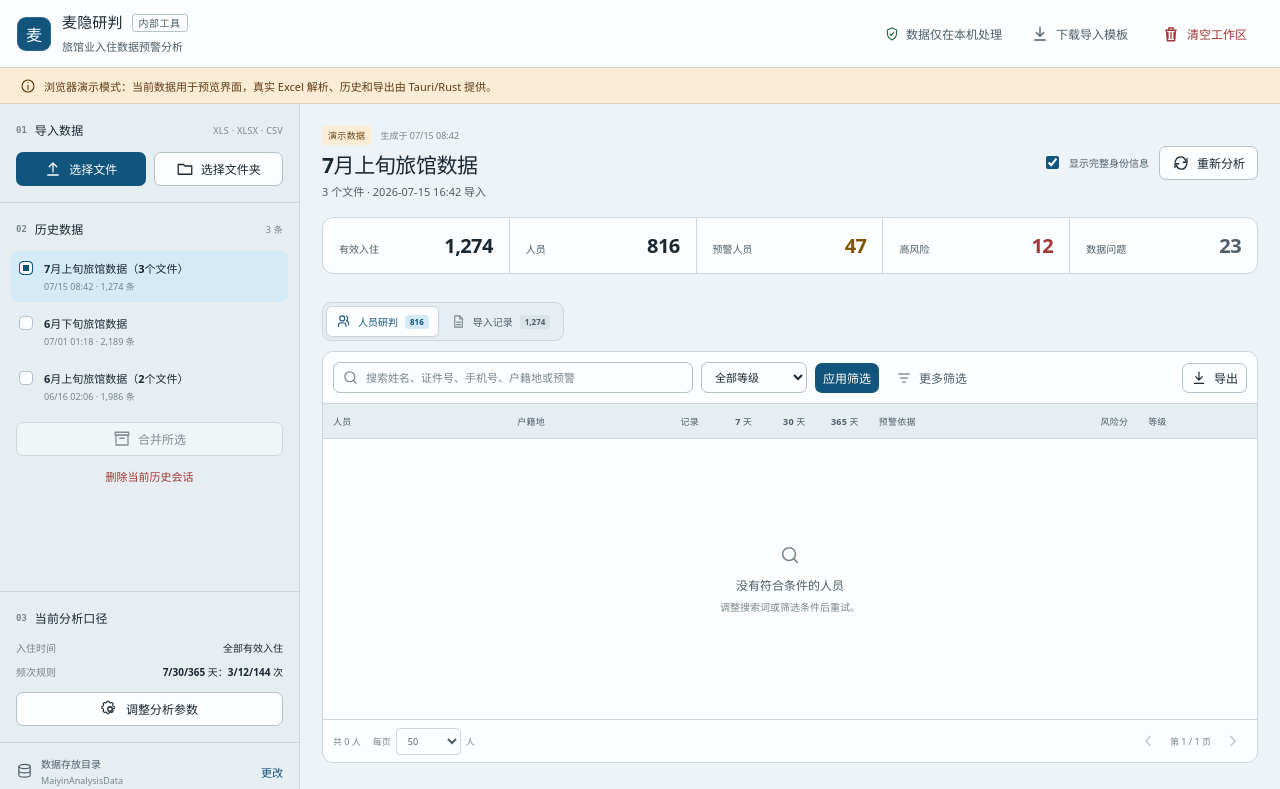
Test: App › loads imported records by page and exposes accessible view tabs
expect the heading "7月上旬旅馆数据" is shown: met, box x1=322 y1=152 x2=486 y2=178
Click the tab "导入记录 1,274" at (500, 322), box x1=441 y1=306 x2=560 y2=337
(page scrolled)
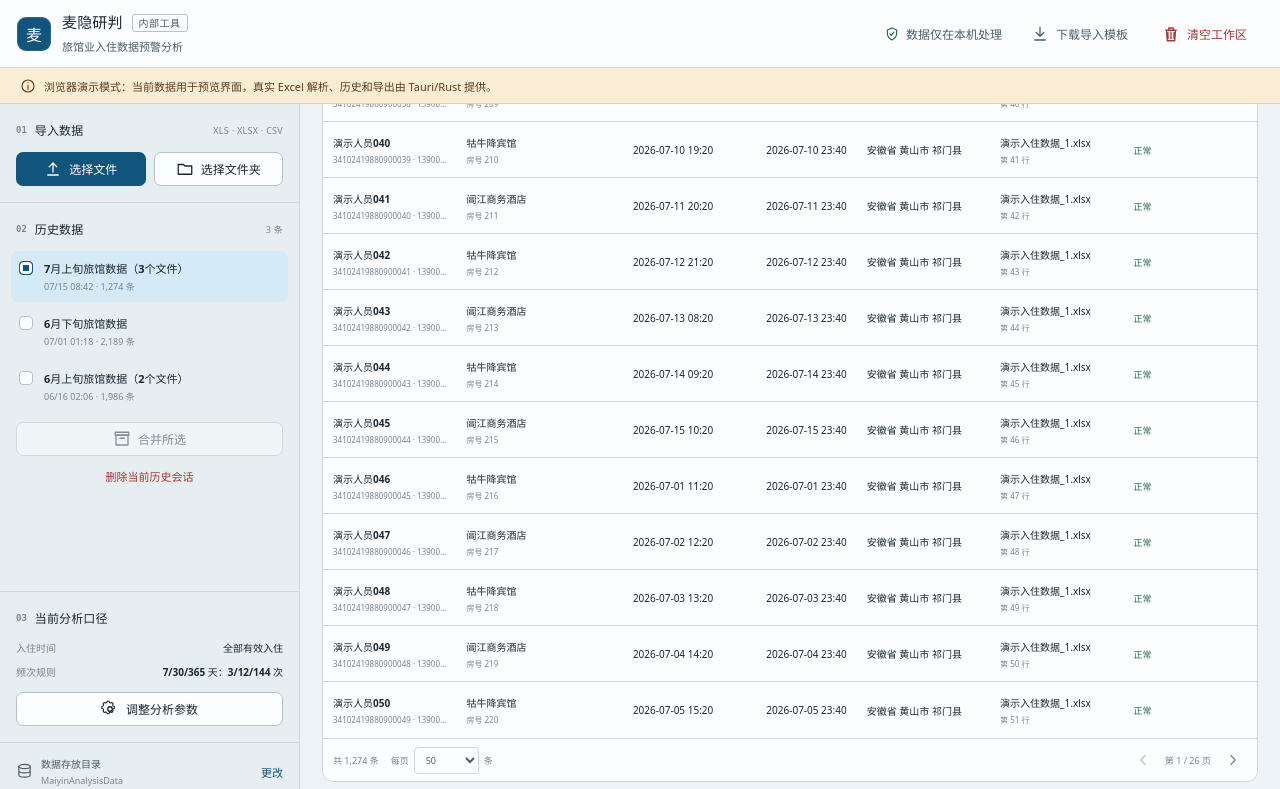
expect the dropdown named "导入记录每页数量" shows "50": met, box x1=414 y1=747 x2=479 y2=774
Click the button named "导入记录下一页" at (1233, 760), box x1=1219 y1=746 x2=1247 y2=774
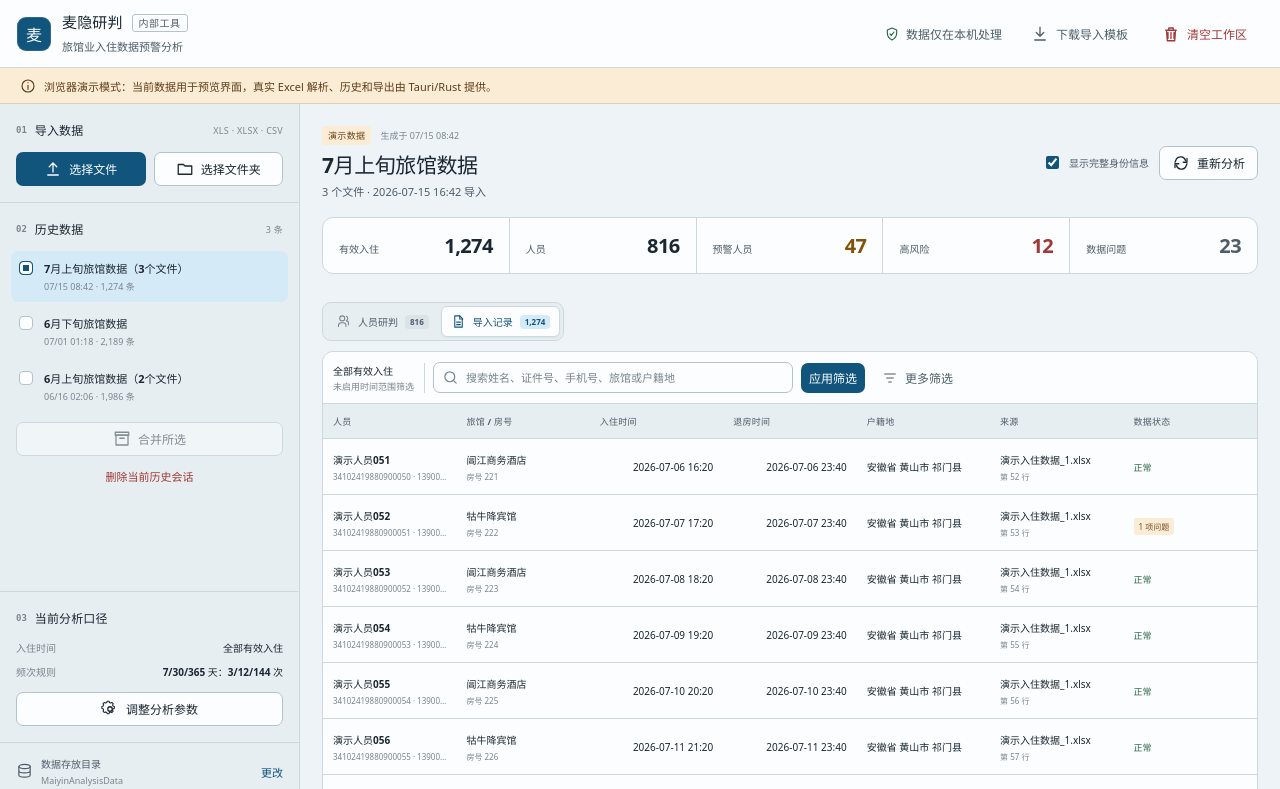
expect the text "演示人员051" is shown: met, box x1=333 y1=453 x2=390 y2=467
